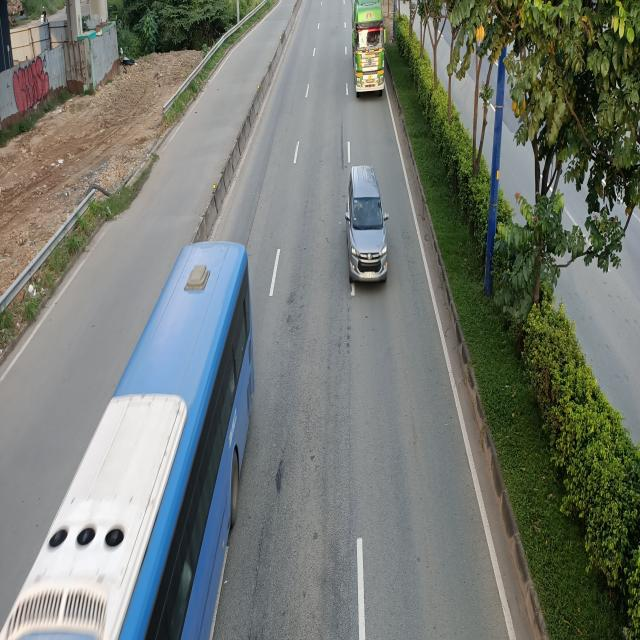car: (346, 164, 389, 283)
coach: (0, 244, 255, 640)
container: (351, 0, 388, 96)
